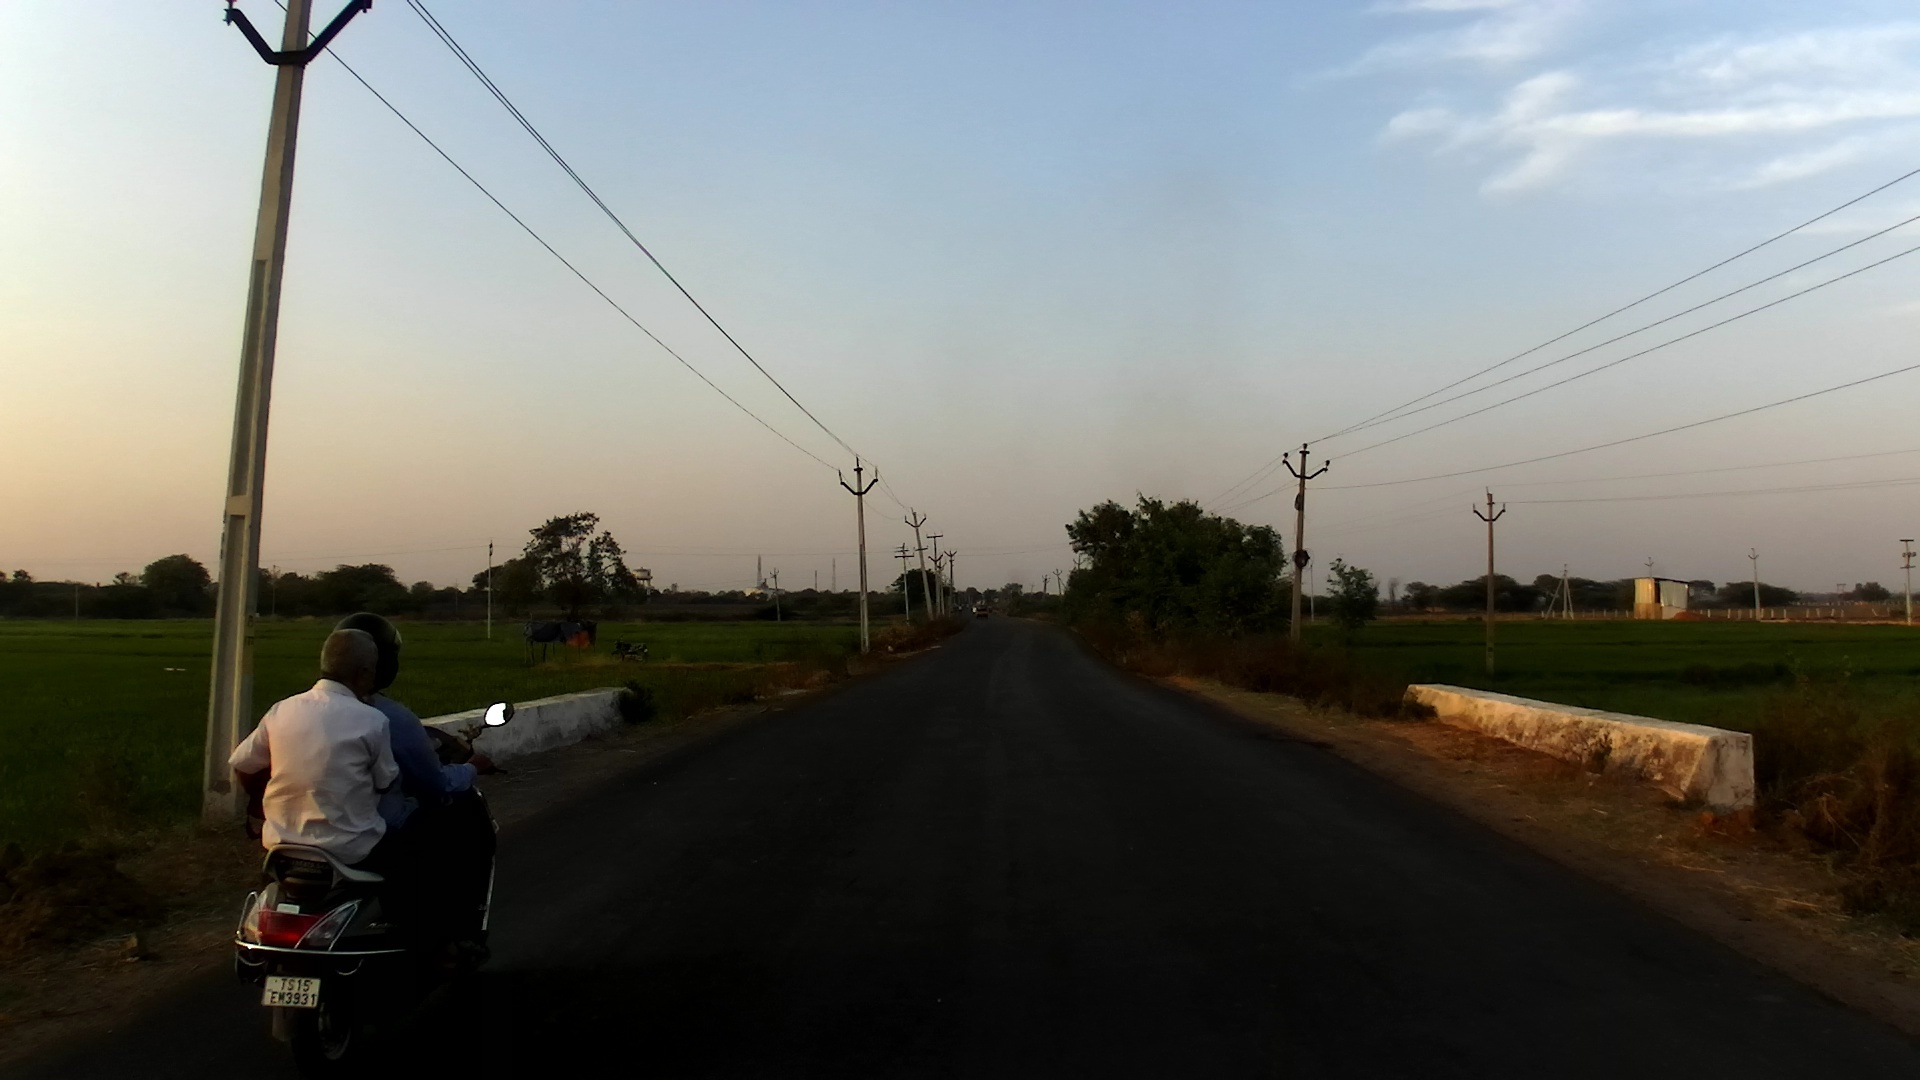autorickshaw: (973, 600, 991, 619)
car: (969, 605, 978, 616)
motorcycle: (230, 694, 526, 1078), (610, 635, 650, 668)
person: (957, 603, 963, 614)
rider: (226, 627, 446, 992), (334, 608, 492, 974)
vehicle fallback: (989, 605, 995, 613)
